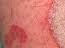plaque psoriasis: (46, 0, 65, 48), (4, 24, 27, 45)
